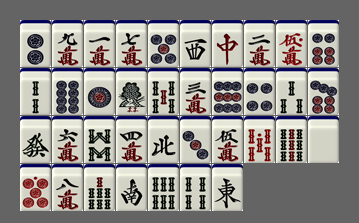0m: (276, 20, 307, 67)
0p: (20, 164, 51, 211)
0s: (244, 116, 275, 163)
1m: (84, 20, 115, 67)
1p: (84, 68, 115, 115)
1s: (116, 68, 147, 115)
1z: (212, 164, 243, 211)
2m: (244, 20, 275, 67)
2p: (20, 20, 51, 67)
2s: (20, 68, 51, 115)
2z: (116, 164, 147, 211)
3m: (180, 68, 211, 115)
3p: (180, 116, 211, 163)
3s: (276, 68, 307, 115)
3z: (180, 20, 211, 67)
4m: (116, 116, 147, 163)
4p: (244, 68, 275, 115)
4s: (180, 164, 211, 211)
4z: (148, 116, 179, 163)
5m: (212, 116, 243, 163)
5p: (148, 20, 179, 67)
5s: (148, 68, 179, 115)
5z: (308, 116, 339, 163)
6m: (52, 116, 83, 163)
6p: (308, 20, 339, 67)
6s: (148, 164, 179, 211)
6z: (20, 116, 51, 163)
7m: (116, 20, 147, 67)
7p: (308, 68, 339, 115)
7s: (84, 164, 115, 211)
7z: (212, 20, 243, 67)
8m: (52, 164, 83, 211)
8p: (52, 68, 83, 115)
8s: (84, 116, 115, 163)
9m: (52, 20, 83, 67)
9p: (212, 68, 243, 115)
9s: (276, 116, 307, 163)
